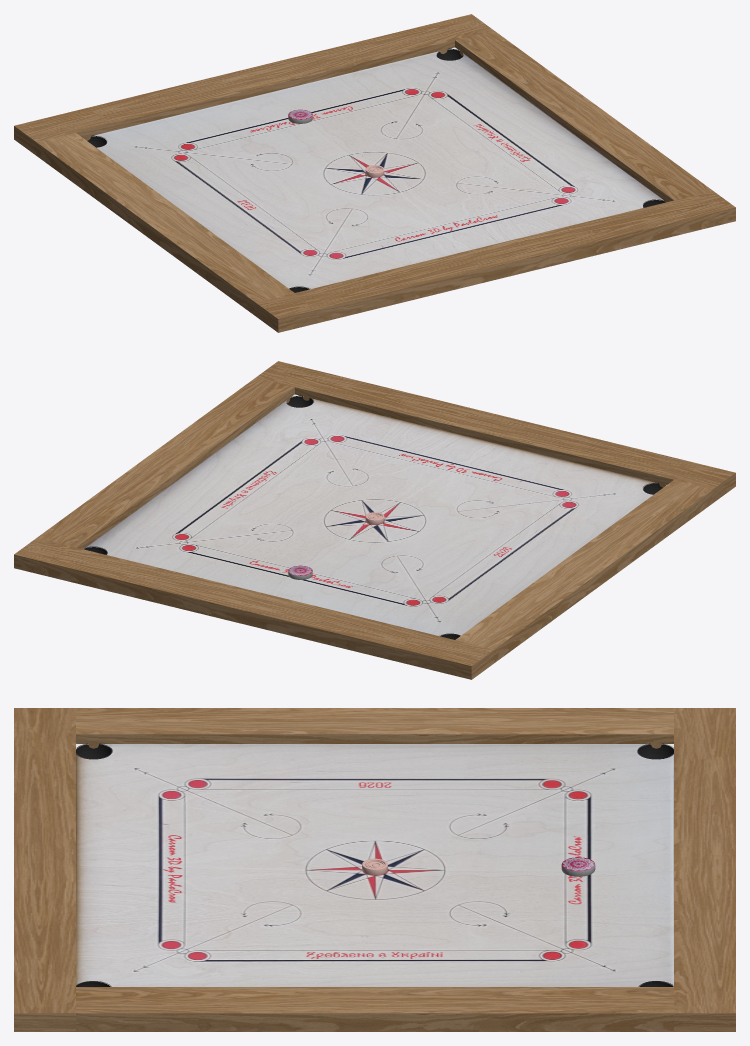
File: carrom-draco_bak.glb
The picture shows the model from 3 angles, top to bottom: view 1: azimuth 30°, elevation 25°; view 2: azimuth 150°, elevation 25°; view 3: azimuth 270°, elevation 25°; orthographic projection. The views are drawn at different scales.
Visible parts, largest first — view 1: mesh_board_surface, mesh_board_frame, mesh_pockets_net; view 2: mesh_board_surface, mesh_board_frame, mesh_pockets_net; view 3: mesh_board_surface, mesh_board_frame, mesh_pockets_net, mesh_striker.
Boxes of the visible parts, x1,y1,x2,y2 form: mesh_board_surface: [91, 47, 665, 289]; mesh_board_frame: [14, 14, 735, 332]; mesh_pockets_net: [87, 48, 665, 292]; mesh_board_surface: [84, 394, 666, 636]; mesh_board_frame: [14, 361, 735, 679]; mesh_pockets_net: [84, 395, 662, 639]; mesh_board_surface: [76, 744, 673, 986]; mesh_board_frame: [14, 708, 735, 1031]; mesh_pockets_net: [76, 743, 673, 986]; mesh_striker: [561, 857, 595, 876].
Bounding box in the file's own units: 0.887 × 0.0359 × 0.887.
Materials: 7 (3 with a texture image).
